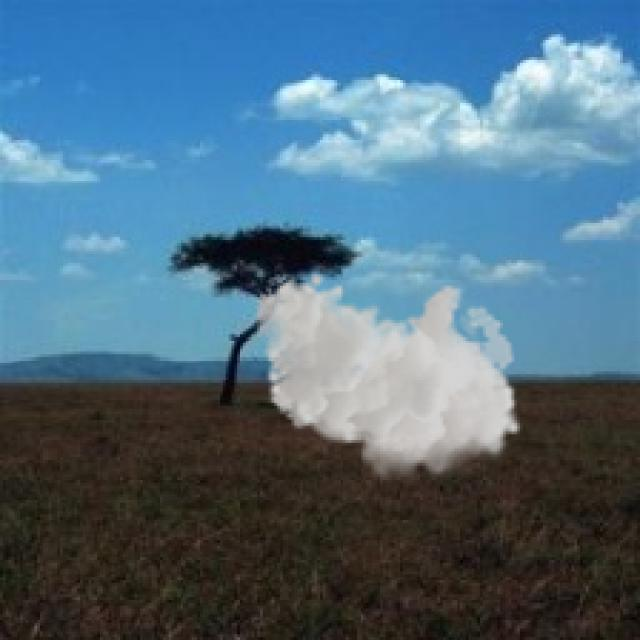smoke: (254, 271, 523, 486)
